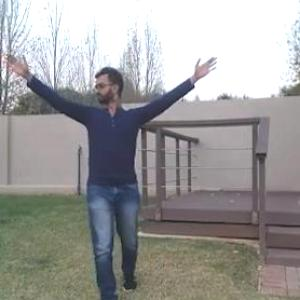takeoff: (2, 53, 217, 299)
